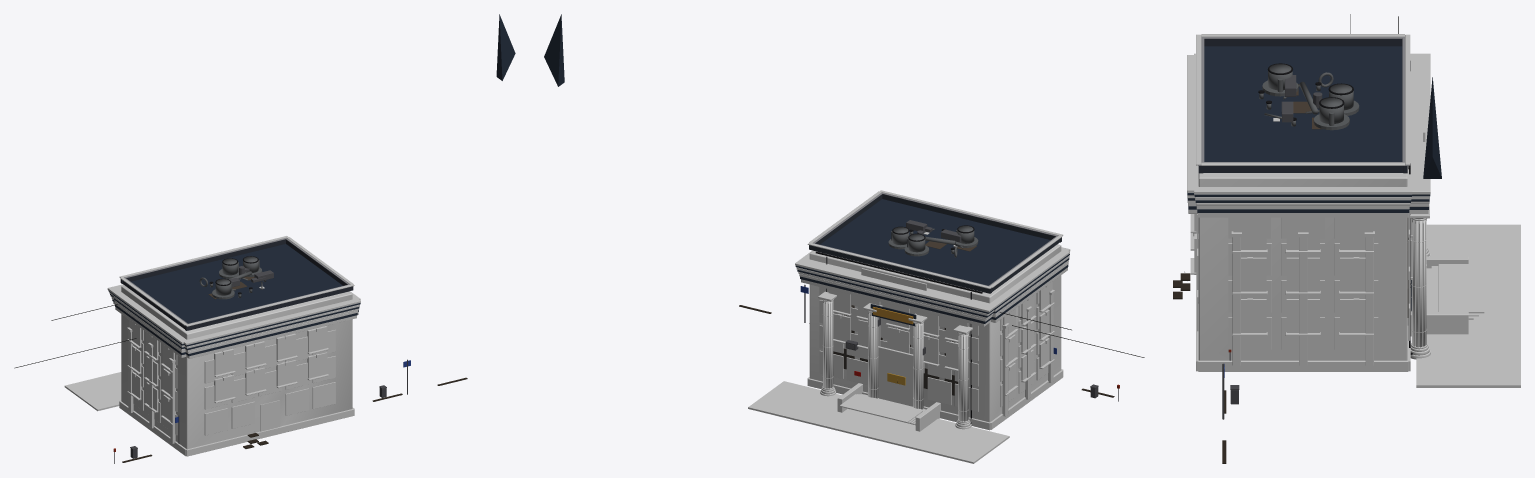
The model's file is hm_bank_annex_v10.obj.
3 renders of one model, left to right at view 1: azimuth 30°, elevation 25°; view 2: azimuth 150°, elevation 25°; view 3: azimuth 270°, elevation 25°, orthographic. The views are drawn at different scales.
Parts seen in each view (by area): view 1: hm_bank_annex_v10_shell, hm_bank_annex_v10_roof, hm_bank_annex_v10_plaza, hm_bank_annex_v10_base_r, hm_bank_annex_v10_ent_r_7, hm_bank_annex_v10_par_par_f, hm_bank_annex_v10_par_par_r, hm_bank_annex_v10_ped, hm_bank_annex_v10_ent_r_0, hm_bank_annex_v10_ent_l_7, hm_bank_annex_v10_rdoor_frm, hm_bank_annex_v10_ash_r_0_3 (+6 smaller); view 2: hm_bank_annex_v10_roof, hm_bank_annex_v10_shell, hm_bank_annex_v10_plaza, hm_bank_annex_v10_dmold_2, hm_bank_annex_v10_ent_f_7, hm_bank_annex_v10_tread_6, hm_bank_annex_v10_par_par_r, hm_bank_annex_v10_col_0, hm_bank_annex_v10_col_3, hm_bank_annex_v10_par_par_f, hm_bank_annex_v10_col_1, hm_bank_annex_v10_col_2 (+6 smaller); view 3: hm_bank_annex_v10_roof, hm_bank_annex_v10_shell, hm_bank_annex_v10_plaza, hm_bank_annex_v10_ent_f_7, hm_bank_annex_v10_base_rr, hm_bank_annex_v10_tread_6, hm_bank_annex_v10_col_3, hm_bank_annex_v10_ent_rr_7, hm_bank_annex_v10_par_par_l, hm_bank_annex_v10_par_par_r.001, hm_bank_annex_v10_ent_r_7, hm_bank_annex_v10_spil_rr_0 (+41 smaller).
Part boxes in pixels (x1,y1,x2,y2): hm_bank_annex_v10_shell: (121, 285, 352, 449); hm_bank_annex_v10_roof: (131, 244, 342, 323); hm_bank_annex_v10_plaza: (64, 372, 121, 411); hm_bank_annex_v10_base_r: (186, 409, 354, 456); hm_bank_annex_v10_ent_r_7: (184, 298, 360, 345); hm_bank_annex_v10_par_par_f: (120, 239, 285, 283); hm_bank_annex_v10_par_par_r: (185, 286, 353, 330); hm_bank_annex_v10_ped: (496, 14, 515, 80); hm_bank_annex_v10_ent_r_0: (186, 315, 356, 358); hm_bank_annex_v10_ent_l_7: (113, 290, 188, 343); hm_bank_annex_v10_rdoor_frm: (260, 400, 280, 431); hm_bank_annex_v10_ash_r_0_3: (285, 388, 308, 415); hm_bank_annex_v10_roof: (820, 199, 1050, 285); hm_bank_annex_v10_shell: (809, 244, 1061, 422); hm_bank_annex_v10_plaza: (748, 381, 1009, 463); hm_bank_annex_v10_dmold_2: (878, 346, 913, 406); hm_bank_annex_v10_ent_f_7: (795, 255, 995, 312); hm_bank_annex_v10_tread_6: (839, 394, 922, 422); hm_bank_annex_v10_par_par_r: (882, 194, 1061, 242); hm_bank_annex_v10_col_0: (958, 334, 968, 421); hm_bank_annex_v10_col_3: (823, 301, 833, 388); hm_bank_annex_v10_par_par_f: (809, 245, 991, 293); hm_bank_annex_v10_col_1: (913, 323, 923, 409); hm_bank_annex_v10_col_2: (868, 312, 878, 398); hm_bank_annex_v10_roof: (1203, 46, 1402, 172); hm_bank_annex_v10_shell: (1198, 173, 1407, 360); hm_bank_annex_v10_plaza: (1416, 224, 1520, 387); hm_bank_annex_v10_ent_f_7: (1398, 53, 1430, 194); hm_bank_annex_v10_base_rr: (1198, 360, 1408, 371); hm_bank_annex_v10_tread_6: (1438, 264, 1484, 313); hm_bank_annex_v10_col_3: (1411, 219, 1426, 347); hm_bank_annex_v10_ent_rr_7: (1194, 186, 1412, 194); hm_bank_annex_v10_par_par_l: (1204, 39, 1402, 46); hm_bank_annex_v10_par_par_r.001: (1203, 166, 1402, 172); hm_bank_annex_v10_ent_r_7: (1187, 55, 1200, 192); hm_bank_annex_v10_spil_rr_0: (1232, 237, 1240, 365).
Size of the model in its own units: 50.78 by 27.09 by 18.3.
